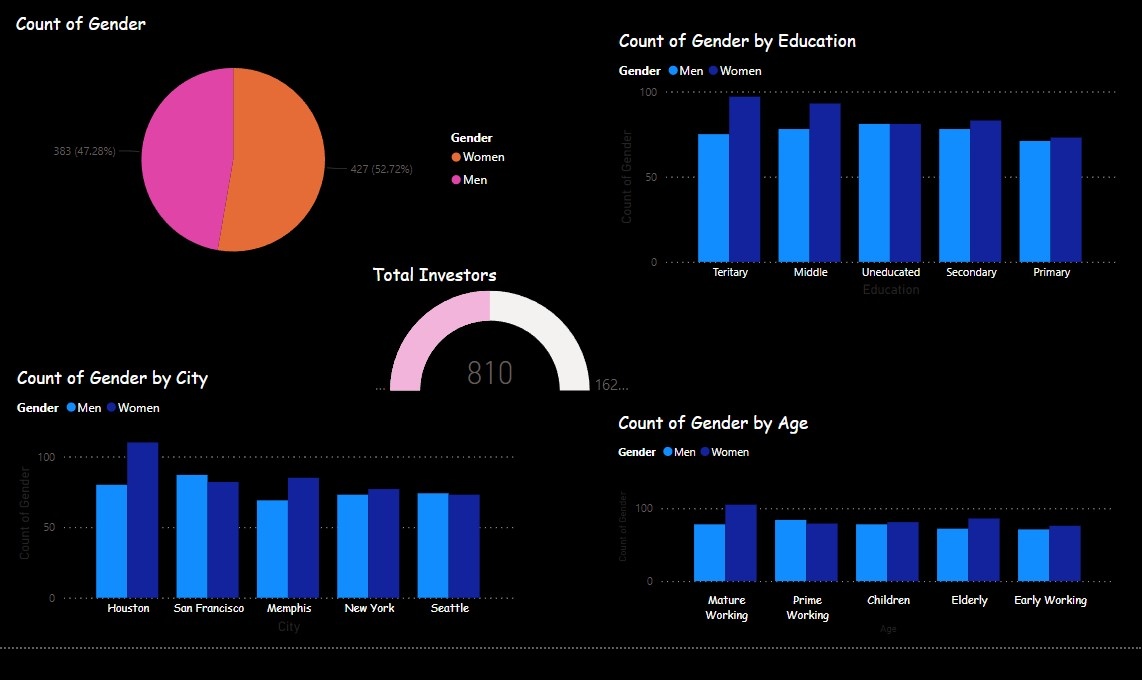

This screenshot's page, from the dashboard's own definition file:
{"tool":"powerbi","page":{"name":"Gender Distribution","canvas":[1280,720],"ordinal":0},"visuals":[{"type":"pieChart","title":"Count of Gender ","fields":{"Category":["Sheet1.Gender"],"Y":["CountNonNull(Sheet1.Gender)"]},"box":[23.3,22,555.7,300.5],"z":0},{"type":"lineClusteredColumnComboChart","title":"Count of Gender by Education","fields":{"Category":["Sheet1.Education"],"Series":["Sheet1.Gender"],"Y":["CountNonNull(Sheet1.Gender)"]},"box":[684.7,39.8,555.7,300.5],"z":1000},{"type":"lineClusteredColumnComboChart","title":"Count of Gender by City","fields":{"Category":["Sheet1.City"],"Series":["Sheet1.Gender"],"Y":["CountNonNull(Sheet1.Gender)"]},"box":[24.7,410.3,555.7,300.5],"z":2000},{"type":"gauge","title":"Total Investors","fields":{"Y":["CountNonNull(Sheet1.Gender)"]},"box":[414.4,297.8,295,150.9],"z":3000},{"type":"clusteredColumnChart","title":"Count of Gender by Age","fields":{"Y":["CountNonNull(Sheet1.Gender)"],"Category":["Sheet1.Age"],"Series":["Sheet1.Gender"]},"box":[684.7,459.7,555.7,251.1],"z":4000}]}

Visuals, with their boxes on the page's 1280x720 design canvas (x1, y1, x2, y2). These are canvas units, not pixel positions in the 1142x680 screenshot, which may show the page scaled, cropped or inside an application window:
"Count of Gender " pieChart: (23, 22, 579, 322)
"Count of Gender by Education" lineClusteredColumnComboChart: (685, 40, 1240, 340)
"Count of Gender by City" lineClusteredColumnComboChart: (25, 410, 580, 711)
"Total Investors" gauge: (414, 298, 709, 449)
"Count of Gender by Age" clusteredColumnChart: (685, 460, 1240, 711)
